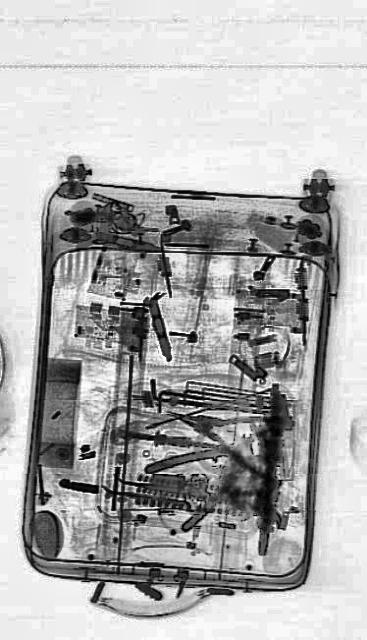Pliers: (161, 380, 273, 482)
